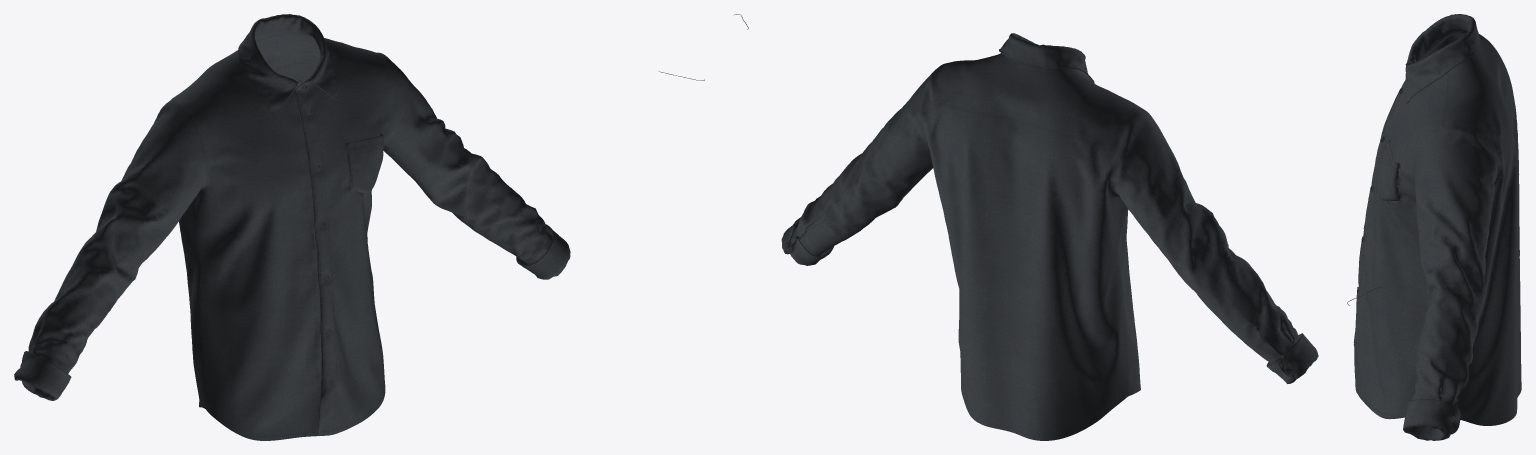
The picture shows the model from 3 angles, left to right: view 1: azimuth 30°, elevation 25°; view 2: azimuth 150°, elevation 25°; view 3: azimuth 270°, elevation 25°; orthographic projection. The views are drawn at different scales.
Visible parts, largest first — view 1: Shirt, Shirt .001, Shirt .002, Shirt .003; view 2: Shirt .003, Shirt .001, Shirt .002, Shirt; view 3: Shirt, Shirt .002, Shirt .003, Shirt .001.
Boxes of the visible parts, x1,y1,x2,y2 form: Shirt: (184, 14, 395, 440); Shirt .001: (14, 103, 206, 400); Shirt .002: (383, 57, 570, 279); Shirt .003: (167, 33, 388, 408); Shirt .003: (921, 53, 1143, 440); Shirt .001: (1113, 111, 1318, 383); Shirt .002: (781, 69, 936, 265); Shirt: (999, 33, 1146, 396); Shirt: (1353, 14, 1479, 418); Shirt .002: (1403, 128, 1496, 440); Shirt .003: (1443, 30, 1521, 425); Shirt .001: (1425, 32, 1464, 57).
Size of the model in its own units: 1.3 by 0.7489 by 0.3122.
7 materials, 5 textured.
